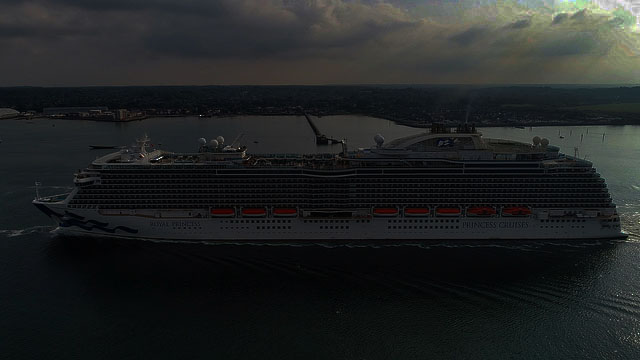cruise_ship: (29, 126, 627, 237)
